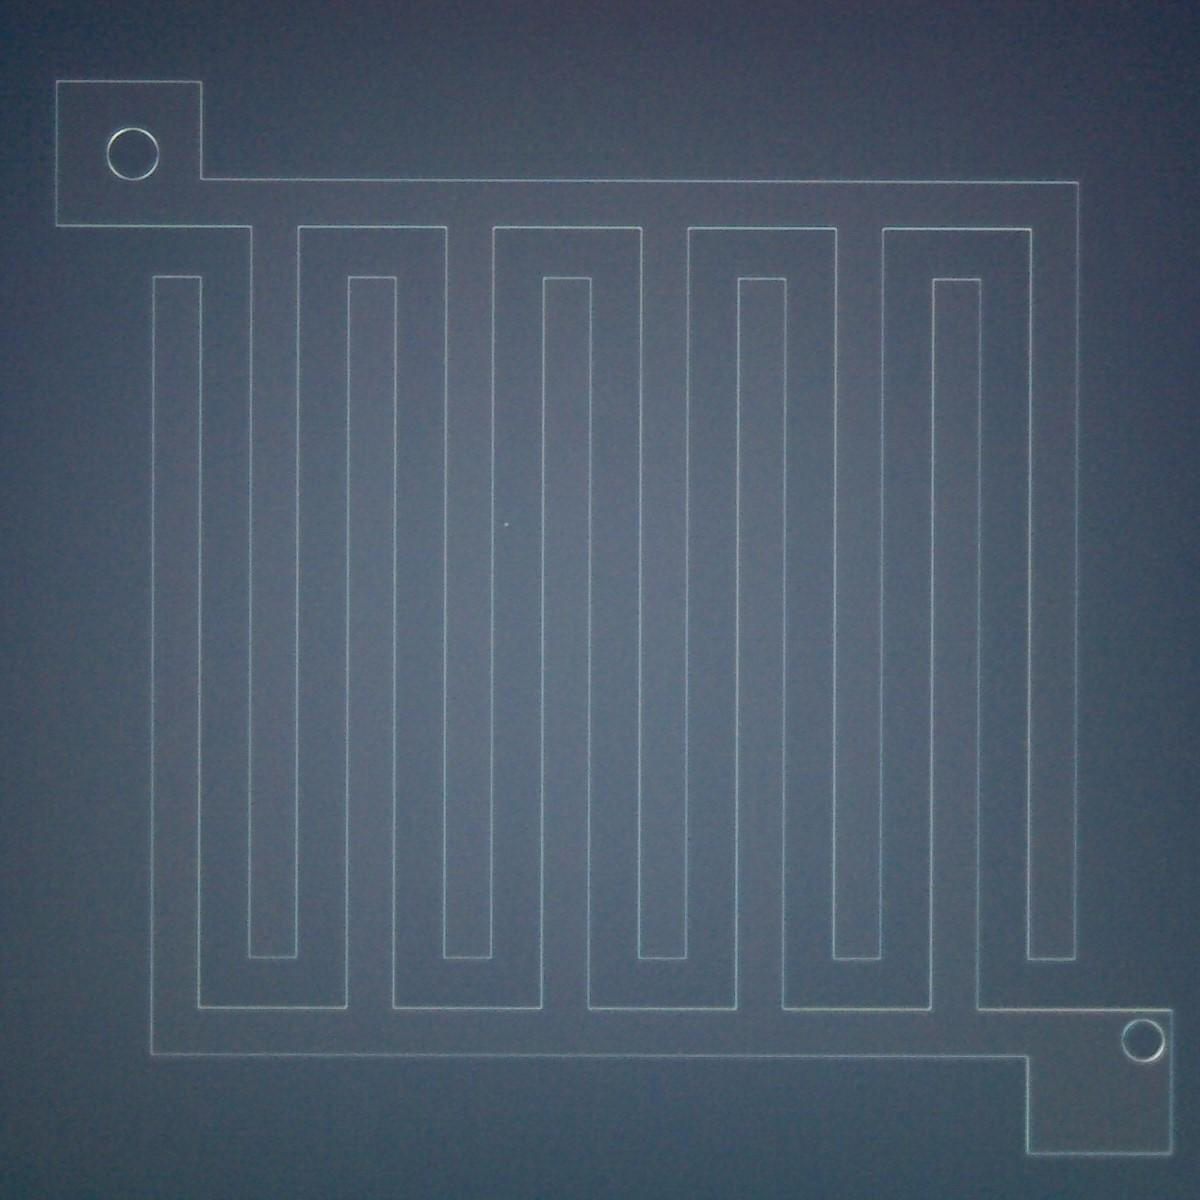circle: (105, 126, 162, 182), (1121, 1018, 1166, 1064)
s_point: (499, 516, 515, 532)
